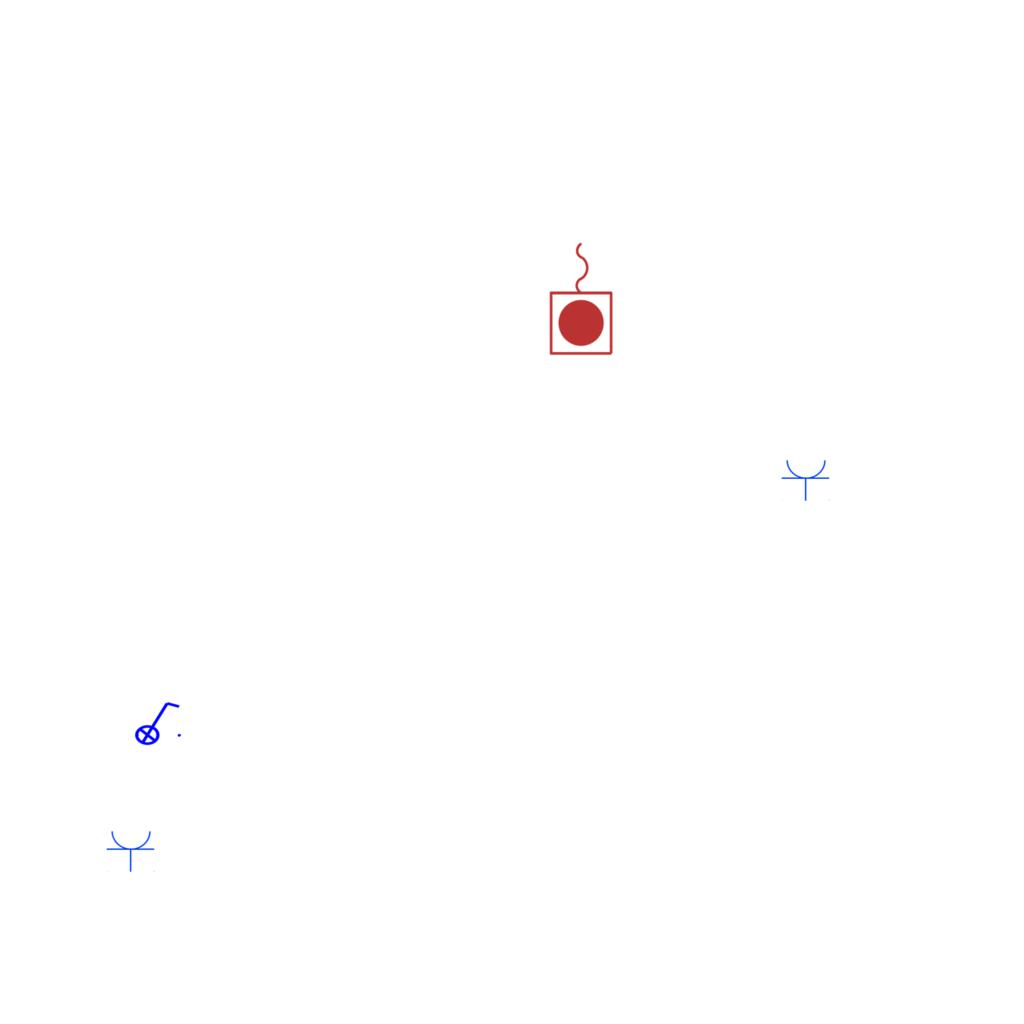Ausschalter_beleuchtet: (128, 698, 184, 746)
Schukosteckdose_einfach: (106, 829, 156, 872), (781, 458, 831, 501)
Zugtaster: (546, 237, 618, 359)
